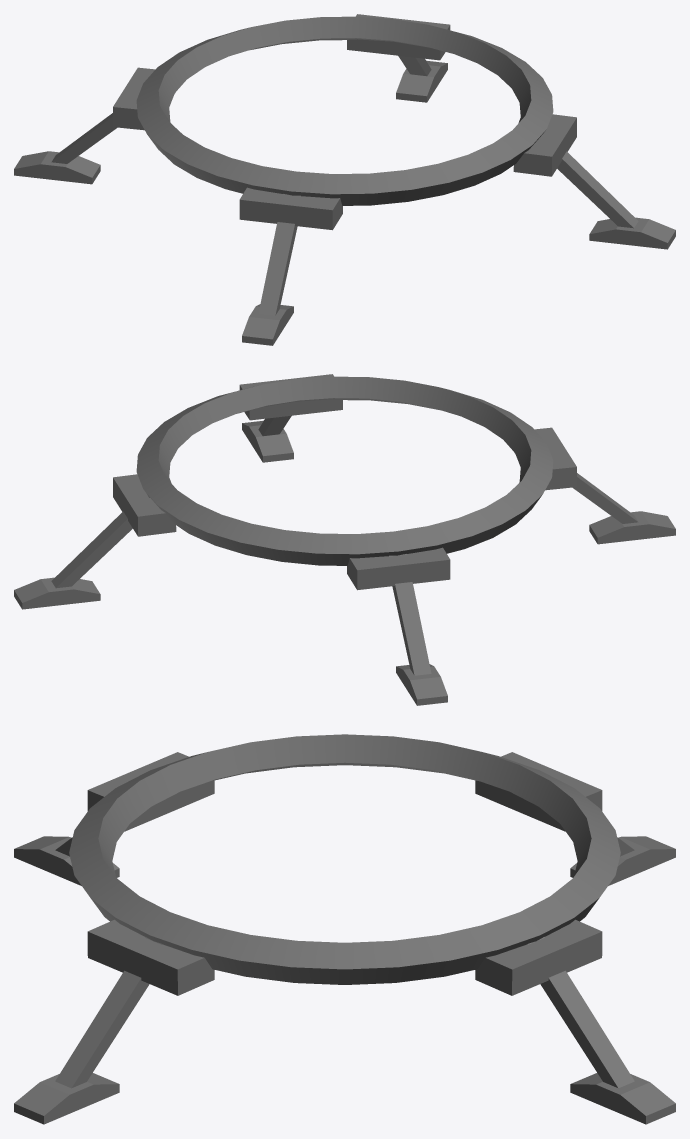
File: House Single Support.glb
3 views of the same model, one above another, from view 1: azimuth 30°, elevation 25°; view 2: azimuth 150°, elevation 25°; view 3: azimuth 270°, elevation 25° (orthographic). The views are drawn at different scales.
Visible parts, largest first — view 1: House_Single_Support; view 2: House_Single_Support; view 3: House_Single_Support.
Part boxes in pixels (x1,y1,x2,y2): House_Single_Support: (14, 14, 675, 345); House_Single_Support: (14, 374, 675, 705); House_Single_Support: (14, 734, 675, 1124).
Bounding box in the file's own units: 3.58 × 0.8721 × 3.58.
1 material, 1 textured.
